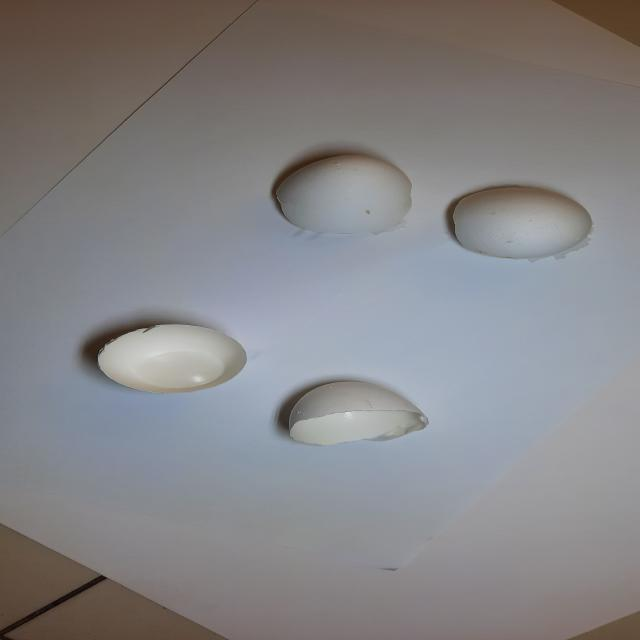egg shell: (254, 144, 432, 252), (77, 315, 266, 410), (438, 170, 606, 268), (271, 372, 442, 461)
